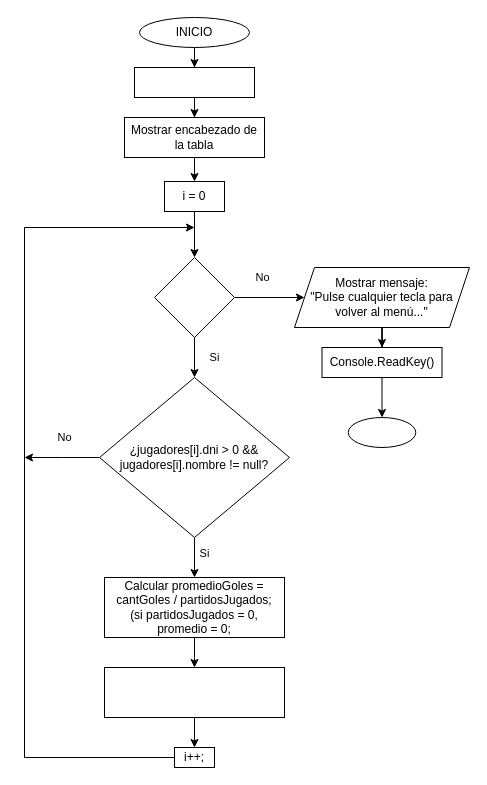
The diagram is 487 pixels wide and 785 high, and some of its shapes have lost their labels. The box of each missing label's shape, as (x1, y1, x2, y2) in pixels:
FIN: (347, 416, 416, 448)
Limpiar consola: (134, 66, 254, 98)
Mostrar fila del jugador con nombre, goles, partidos y promedio: (104, 666, 284, 718)
¿i < indice?: (154, 256, 234, 338)
